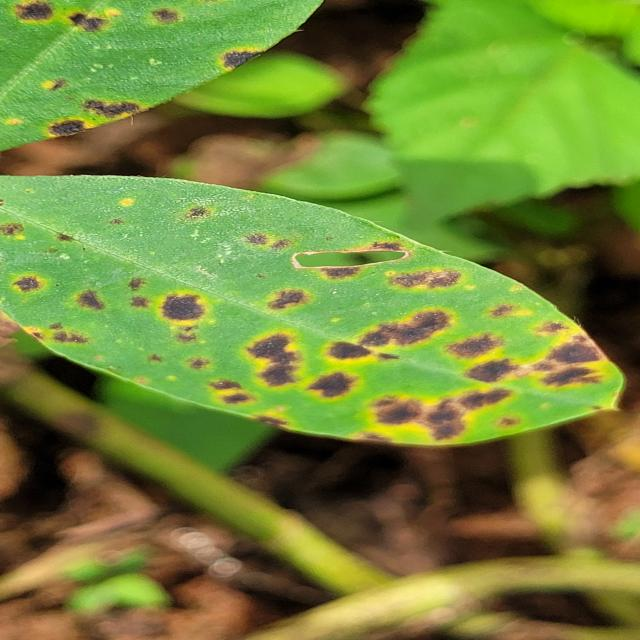Ground nut_tikka leaf spot: (0, 180, 628, 439), (0, 0, 339, 156)
